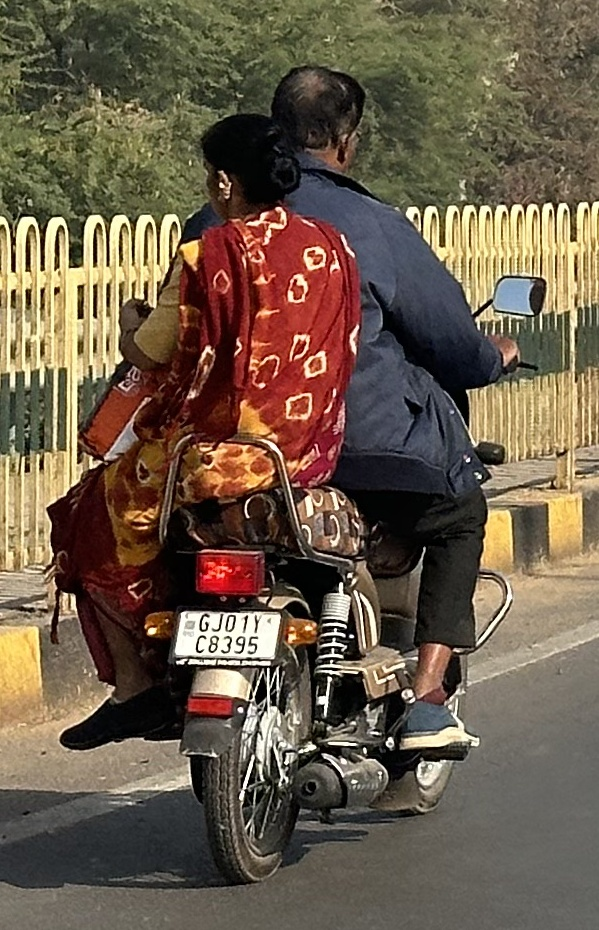BikeWithRider: (32, 52, 557, 893)
NoHelmet: (179, 102, 311, 234), (259, 54, 383, 185)
